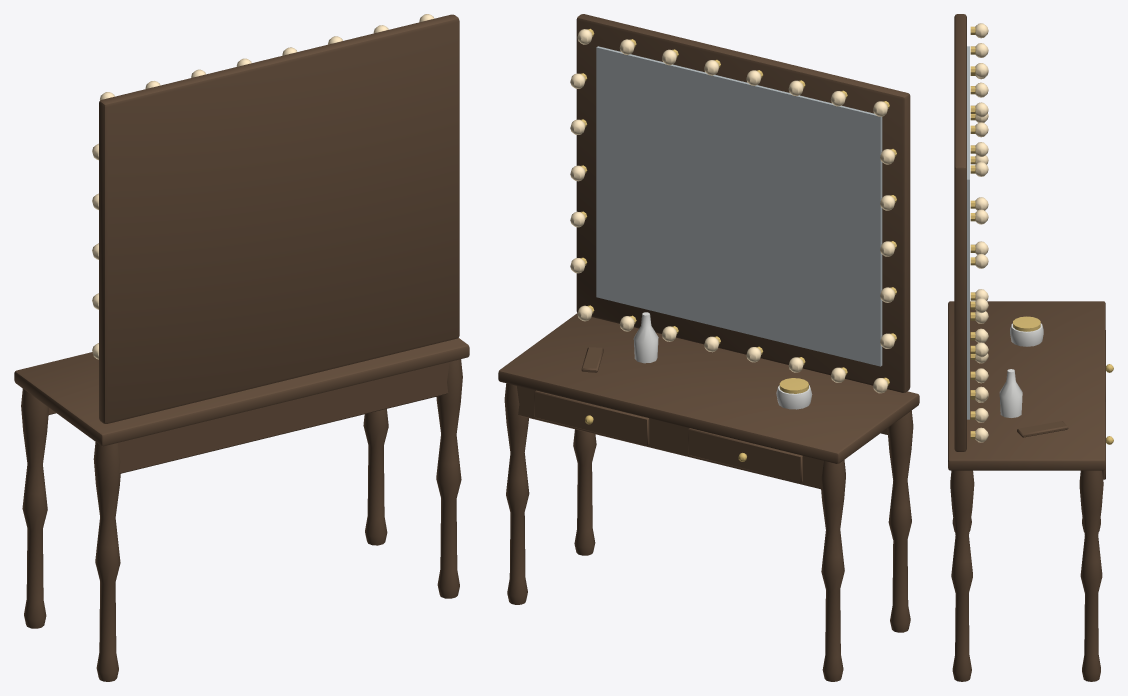
File: tea_toeletta.fbx
3 views of the same model, side by side, from view 1: azimuth 30°, elevation 25°; view 2: azimuth 150°, elevation 25°; view 3: azimuth 270°, elevation 25° (orthographic). The views are drawn at different scales.
Parts seen in each view (by area): view 1: tea_toeletta_legno, tea_toeletta_lampadina; view 2: tea_toeletta_legno, tea_toeletta_specchio, tea_toeletta_lampadina, tea_toeletta_porcellana, tea_toeletta_ottone; view 3: tea_toeletta_legno, tea_toeletta_lampadina, tea_toeletta_ottone, tea_toeletta_porcellana, tea_toeletta_specchio.
Boxes of the visible parts, box(x1,y1,x2,y2) form: tea_toeletta_legno: box(14, 14, 469, 681); tea_toeletta_lampadina: box(92, 14, 434, 359); tea_toeletta_legno: box(498, 14, 919, 681); tea_toeletta_specchio: box(596, 46, 882, 366); tea_toeletta_lampadina: box(570, 29, 895, 393); tea_toeletta_porcellana: box(633, 312, 812, 409); tea_toeletta_ottone: box(580, 28, 896, 461); tea_toeletta_legno: box(948, 14, 1105, 681); tea_toeletta_lampadina: box(975, 23, 988, 442); tea_toeletta_ottone: box(970, 26, 1113, 444); tea_toeletta_porcellana: box(999, 323, 1043, 417); tea_toeletta_specchio: box(967, 46, 969, 419).
Bounding box in the file's own units: 1.2 × 1.8 × 0.526.
